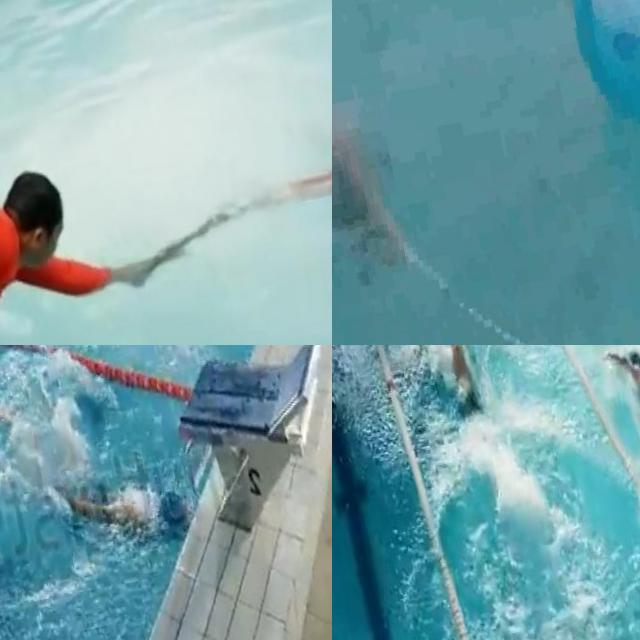drowning: (332, 21, 439, 311)
out of water: (0, 141, 119, 345)
swimming: (51, 466, 186, 566), (420, 345, 517, 466), (590, 345, 640, 441)
